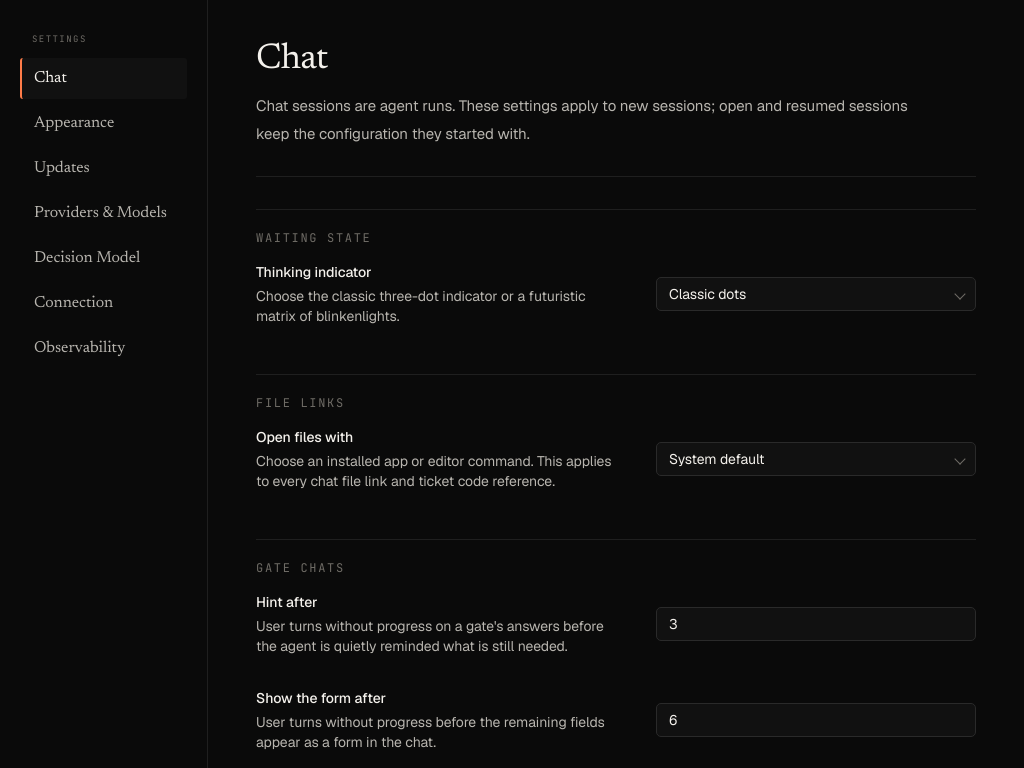
Test: SettingsPage › contextual code theme › with light appearance and OS dark=false lists only light themes
The image size is (1024, 768).
Click the button with test id "settings-nav-appearance" at point(104, 124), box [20,103,187,144]
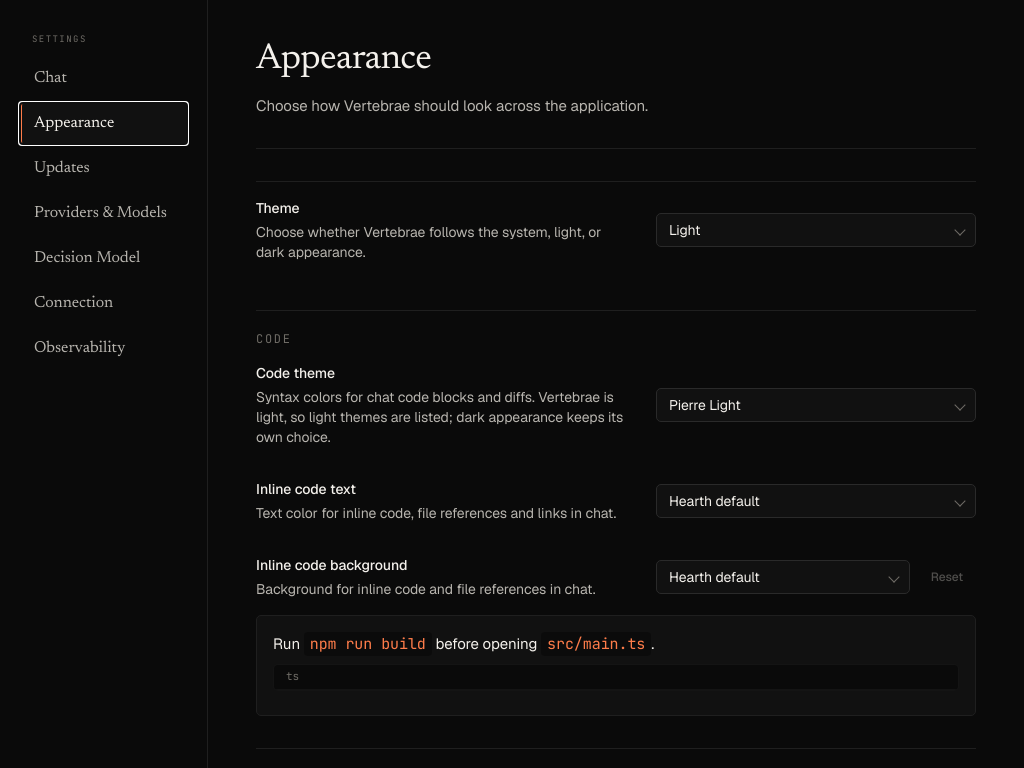
Expected: the number of dropdowns named "Code theme" is 1, [656,388,976,422]
